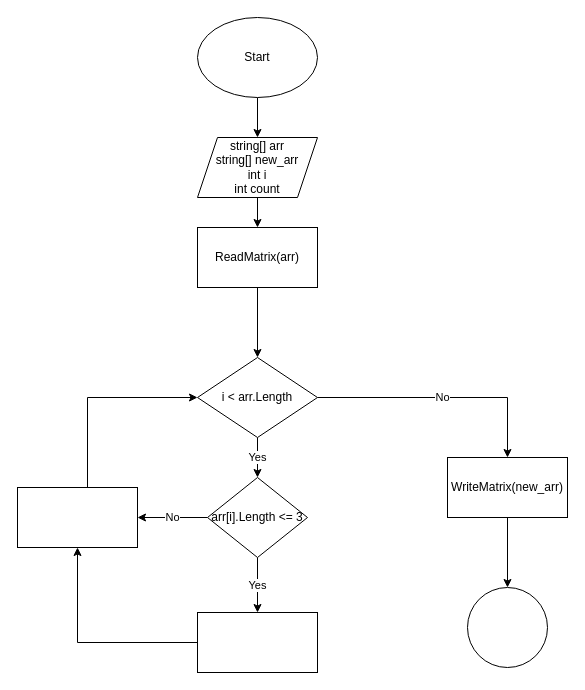
Image size: 585x690. Some labels were removed from this diagram. Here are the shapes that lost their labels. From the top down, the centre of each, then its label:
At point 77,517: "i++".
At point 257,642: "new_arr[count] = arr[i] count++".
At point 507,627: "End".
